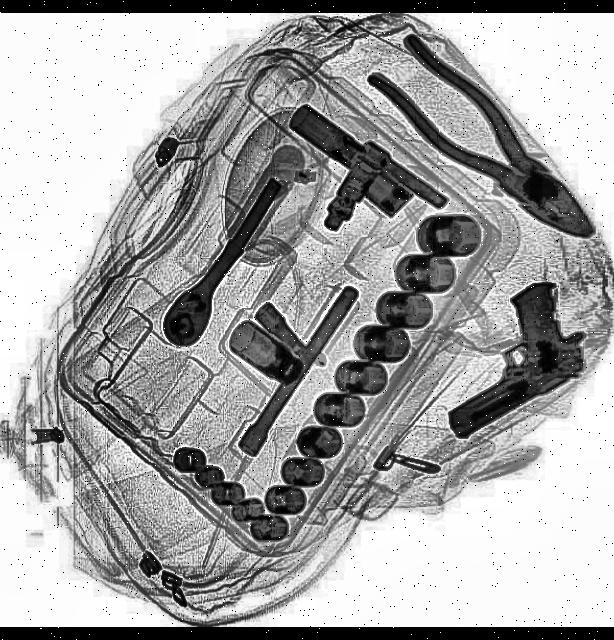Gun: (415, 272, 601, 442)
Pliers: (366, 23, 612, 266)
